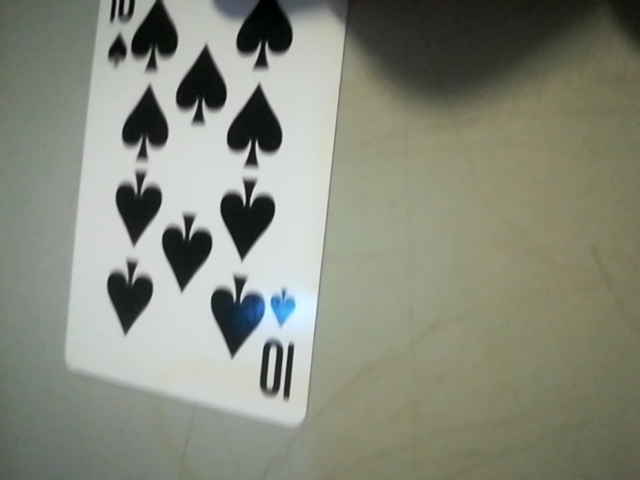ht 10: (249, 282, 308, 419)
